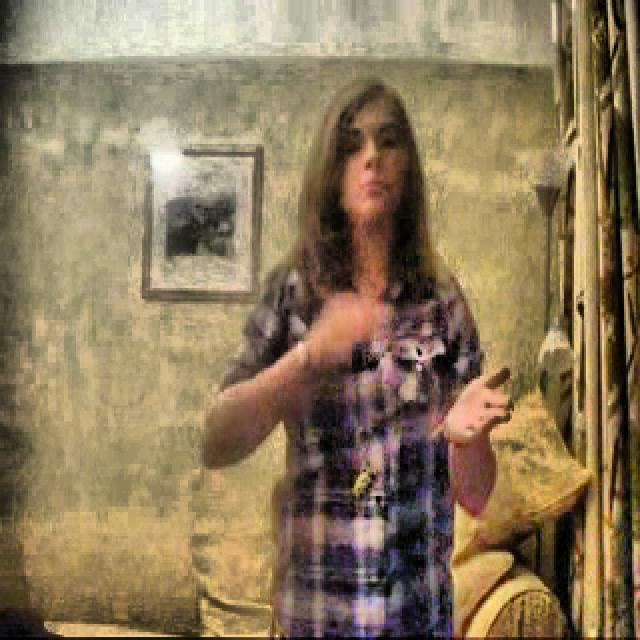F: (205, 69, 493, 640)
